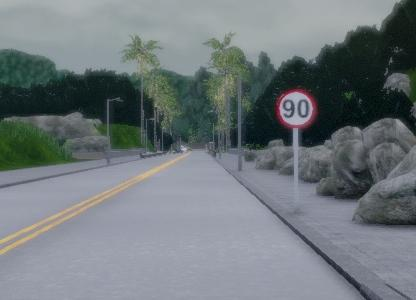Speed_90: (273, 86, 318, 129)
